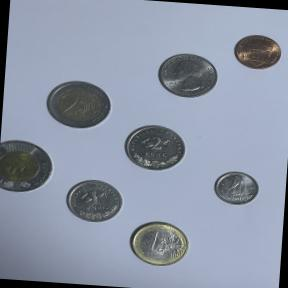1 Euro: (126, 218, 192, 270)
2 Euro: (39, 74, 115, 136)
Canda-10cent-: (208, 166, 264, 210)
Canda-2Dollar-: (0, 134, 59, 199)
Croatia-2Kune-: (120, 120, 189, 175)
US-1cent-: (229, 30, 285, 74)
US-25cent-: (153, 48, 223, 103)
